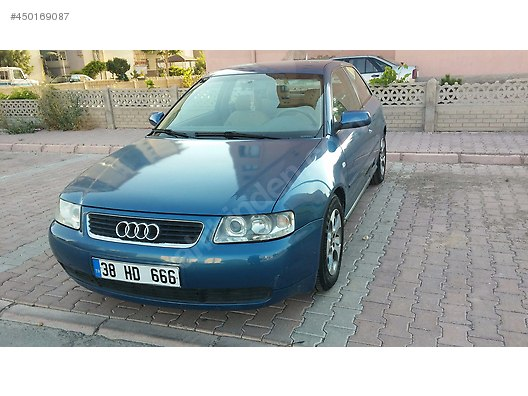audi: (111, 217, 162, 246)
